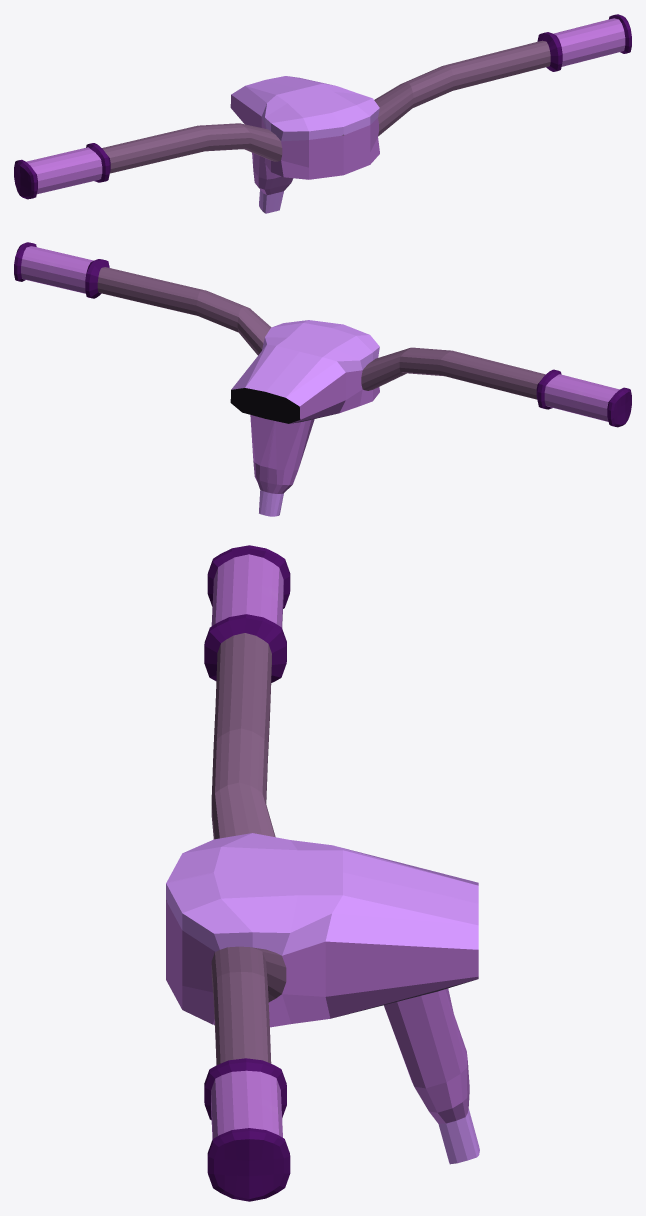
The model's file is VolBici.fbx.
The picture shows the model from 3 angles, top to bottom: view 1: azimuth 30°, elevation 25°; view 2: azimuth 150°, elevation 25°; view 3: azimuth 270°, elevation 25°; orthographic projection. The views are drawn at different scales.
Parts seen in each view (by area): view 1: ManubrioMoto; view 2: ManubrioMoto; view 3: ManubrioMoto.
Part boxes in pixels (x1=…): ManubrioMoto: x1=14, y1=14, x2=631, y2=213; ManubrioMoto: x1=14, y1=242, x2=631, y2=516; ManubrioMoto: x1=166, y1=545, x2=479, y2=1201.
Bounding box in the file's own units: 140 × 35.31 × 31.49.
